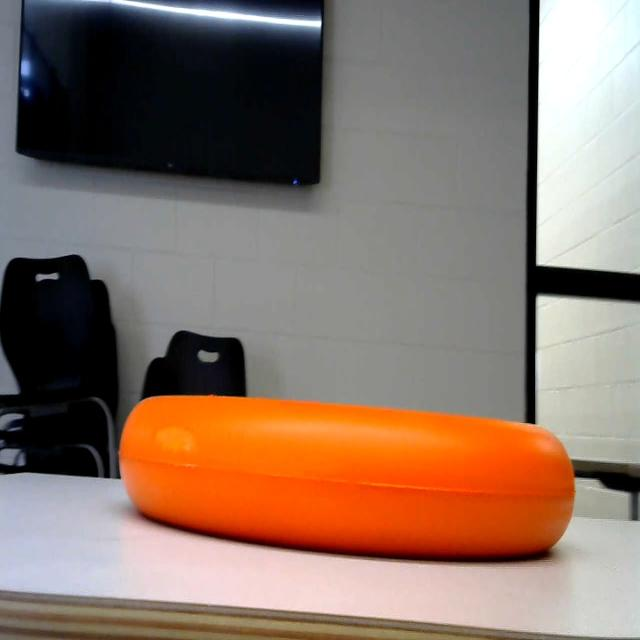note: (124, 379, 593, 583)
